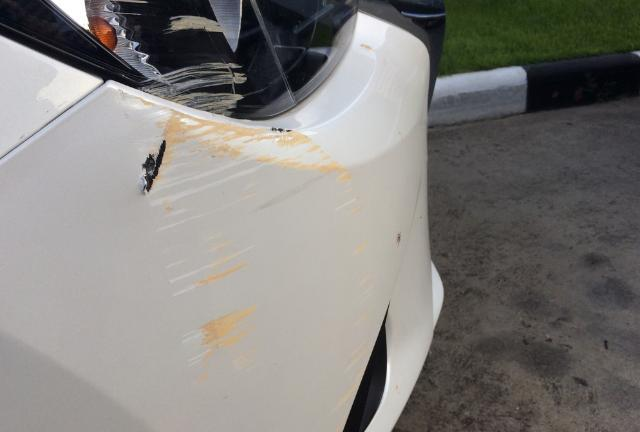Bumper: (95, 86, 375, 388)
Light: (0, 4, 364, 86)
